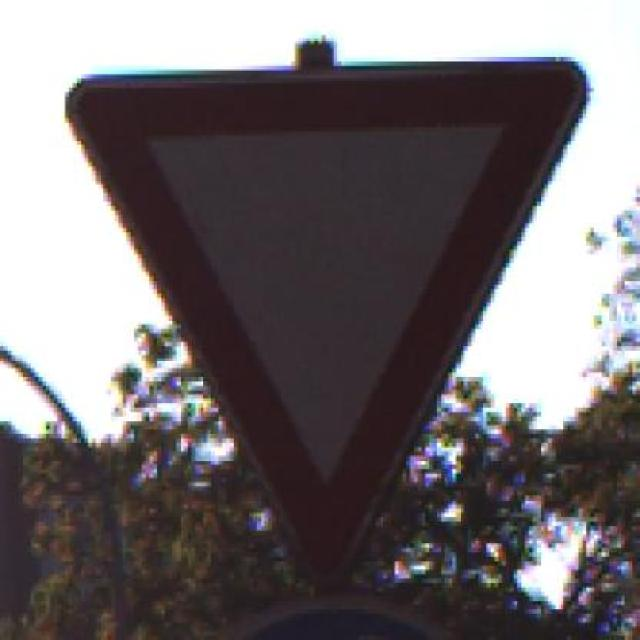Give Way: (35, 57, 598, 592)
